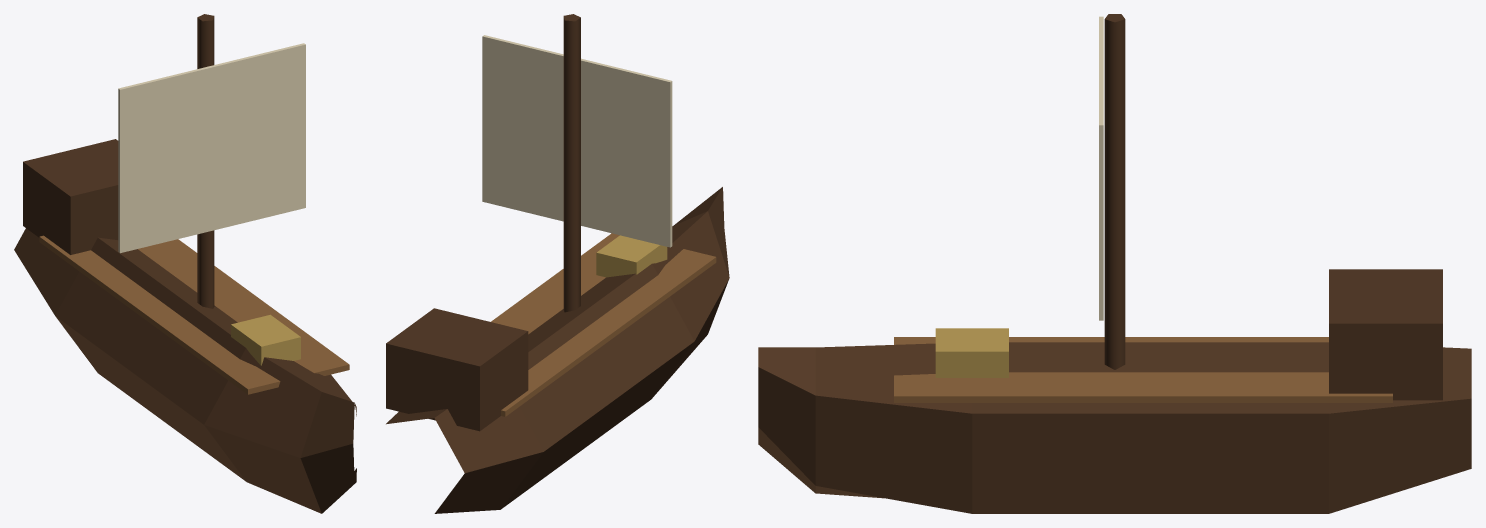
The model's file is veh_naval_fishing_a03_lod1.glb.
The picture shows the model from 3 angles, left to right: view 1: azimuth 30°, elevation 25°; view 2: azimuth 150°, elevation 25°; view 3: azimuth 270°, elevation 25°; orthographic projection. The views are drawn at different scales.
Parts seen in each view (by area): view 1: body, sail_0; view 2: body, sail_0; view 3: body, sail_0.
Boxes of the visible parts, left/top/right/bottom form: body: left=14, top=14, right=356, bottom=513; sail_0: left=118, top=43, right=305, bottom=253; body: left=386, top=14, right=729, bottom=513; sail_0: left=482, top=35, right=672, bottom=247; body: left=758, top=14, right=1471, bottom=513; sail_0: left=1099, top=16, right=1103, bottom=320.
Size of the model in its own units: 2.81 by 6.01 by 7.8.
